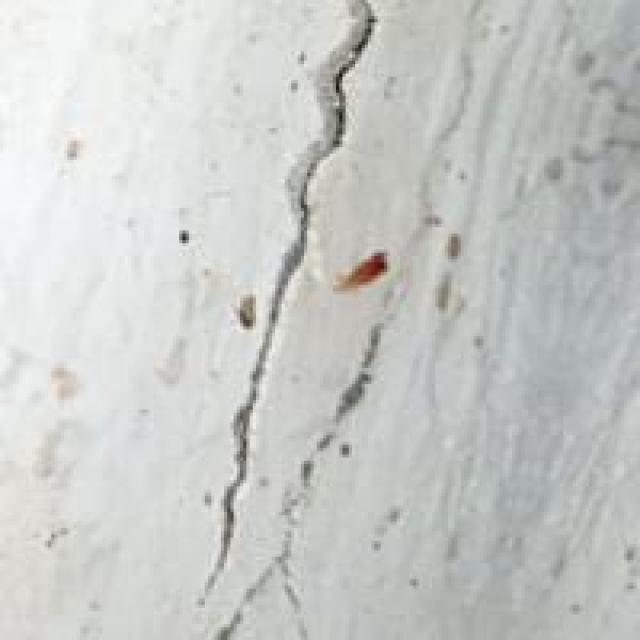crack: (148, 6, 406, 637)
